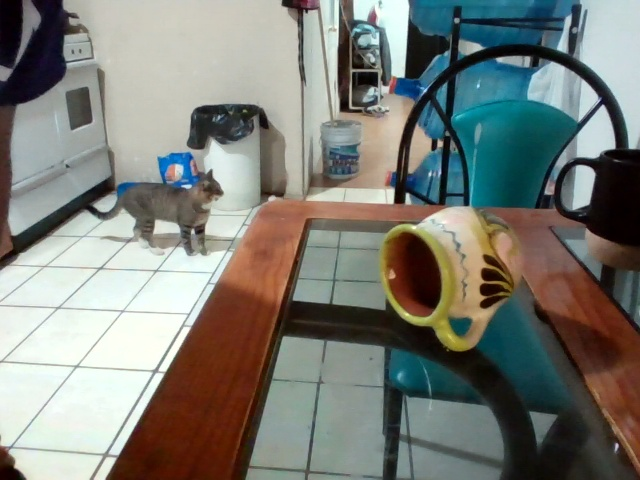taza: (554, 147, 640, 262)
